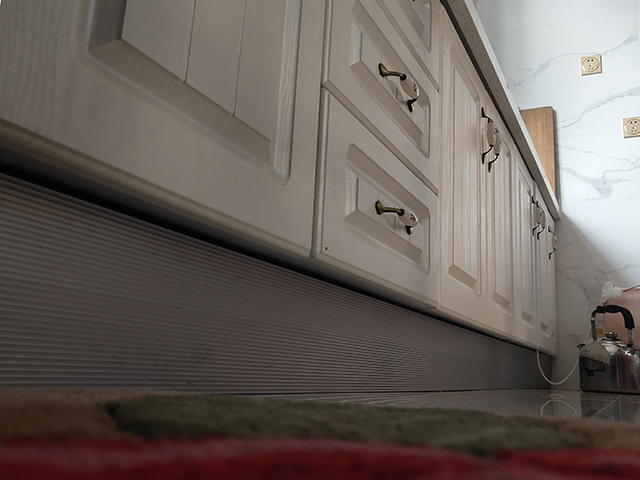cabinet: (1, 1, 561, 394)
carpet: (1, 387, 640, 480)
wire: (534, 324, 593, 386)
